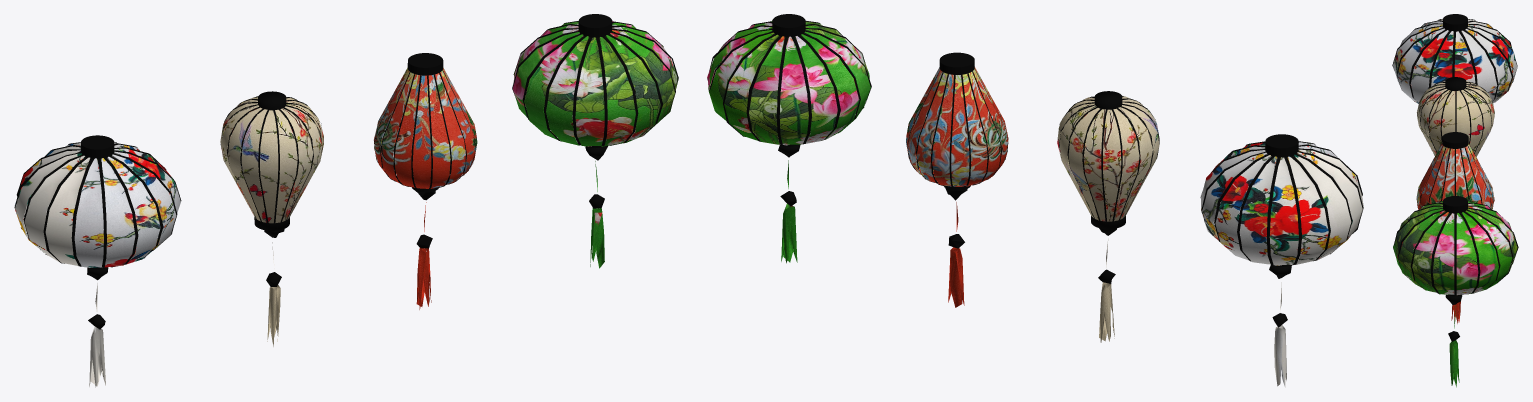
Rendered from lanterns.glb.
The picture shows the model from 3 angles, left to right: view 1: azimuth 30°, elevation 25°; view 2: azimuth 150°, elevation 25°; view 3: azimuth 270°, elevation 25°; orthographic projection. The views are drawn at different scales.
Parts seen in each view (by area): view 1: lantern 2, lantern 4, lantern 1, lantern 3; view 2: lantern 4, lantern 2, lantern 1, lantern 3; view 3: lantern 4, lantern 2, lantern 3, lantern 1.
Boxes of the visible parts, <box> form: lantern 2: <box>14,135,181,387</box>; lantern 4: <box>512,14,678,268</box>; lantern 1: <box>373,53,477,309</box>; lantern 3: <box>220,91,323,346</box>; lantern 4: <box>707,14,871,263</box>; lantern 2: <box>1200,134,1363,387</box>; lantern 1: <box>906,52,1008,307</box>; lantern 3: <box>1057,91,1159,342</box>; lantern 4: <box>1393,196,1518,387</box>; lantern 2: <box>1392,14,1517,103</box>; lantern 3: <box>1416,77,1494,159</box>; lantern 1: <box>1416,132,1494,323</box>.
Bounding box in the file's own units: 6.84 × 2.53 × 1.55.
5 materials, 4 textured.
